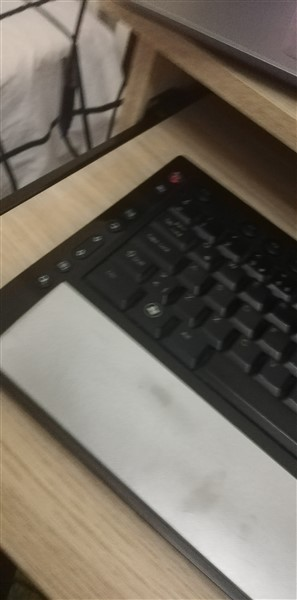klavye: (1, 154, 296, 597)
